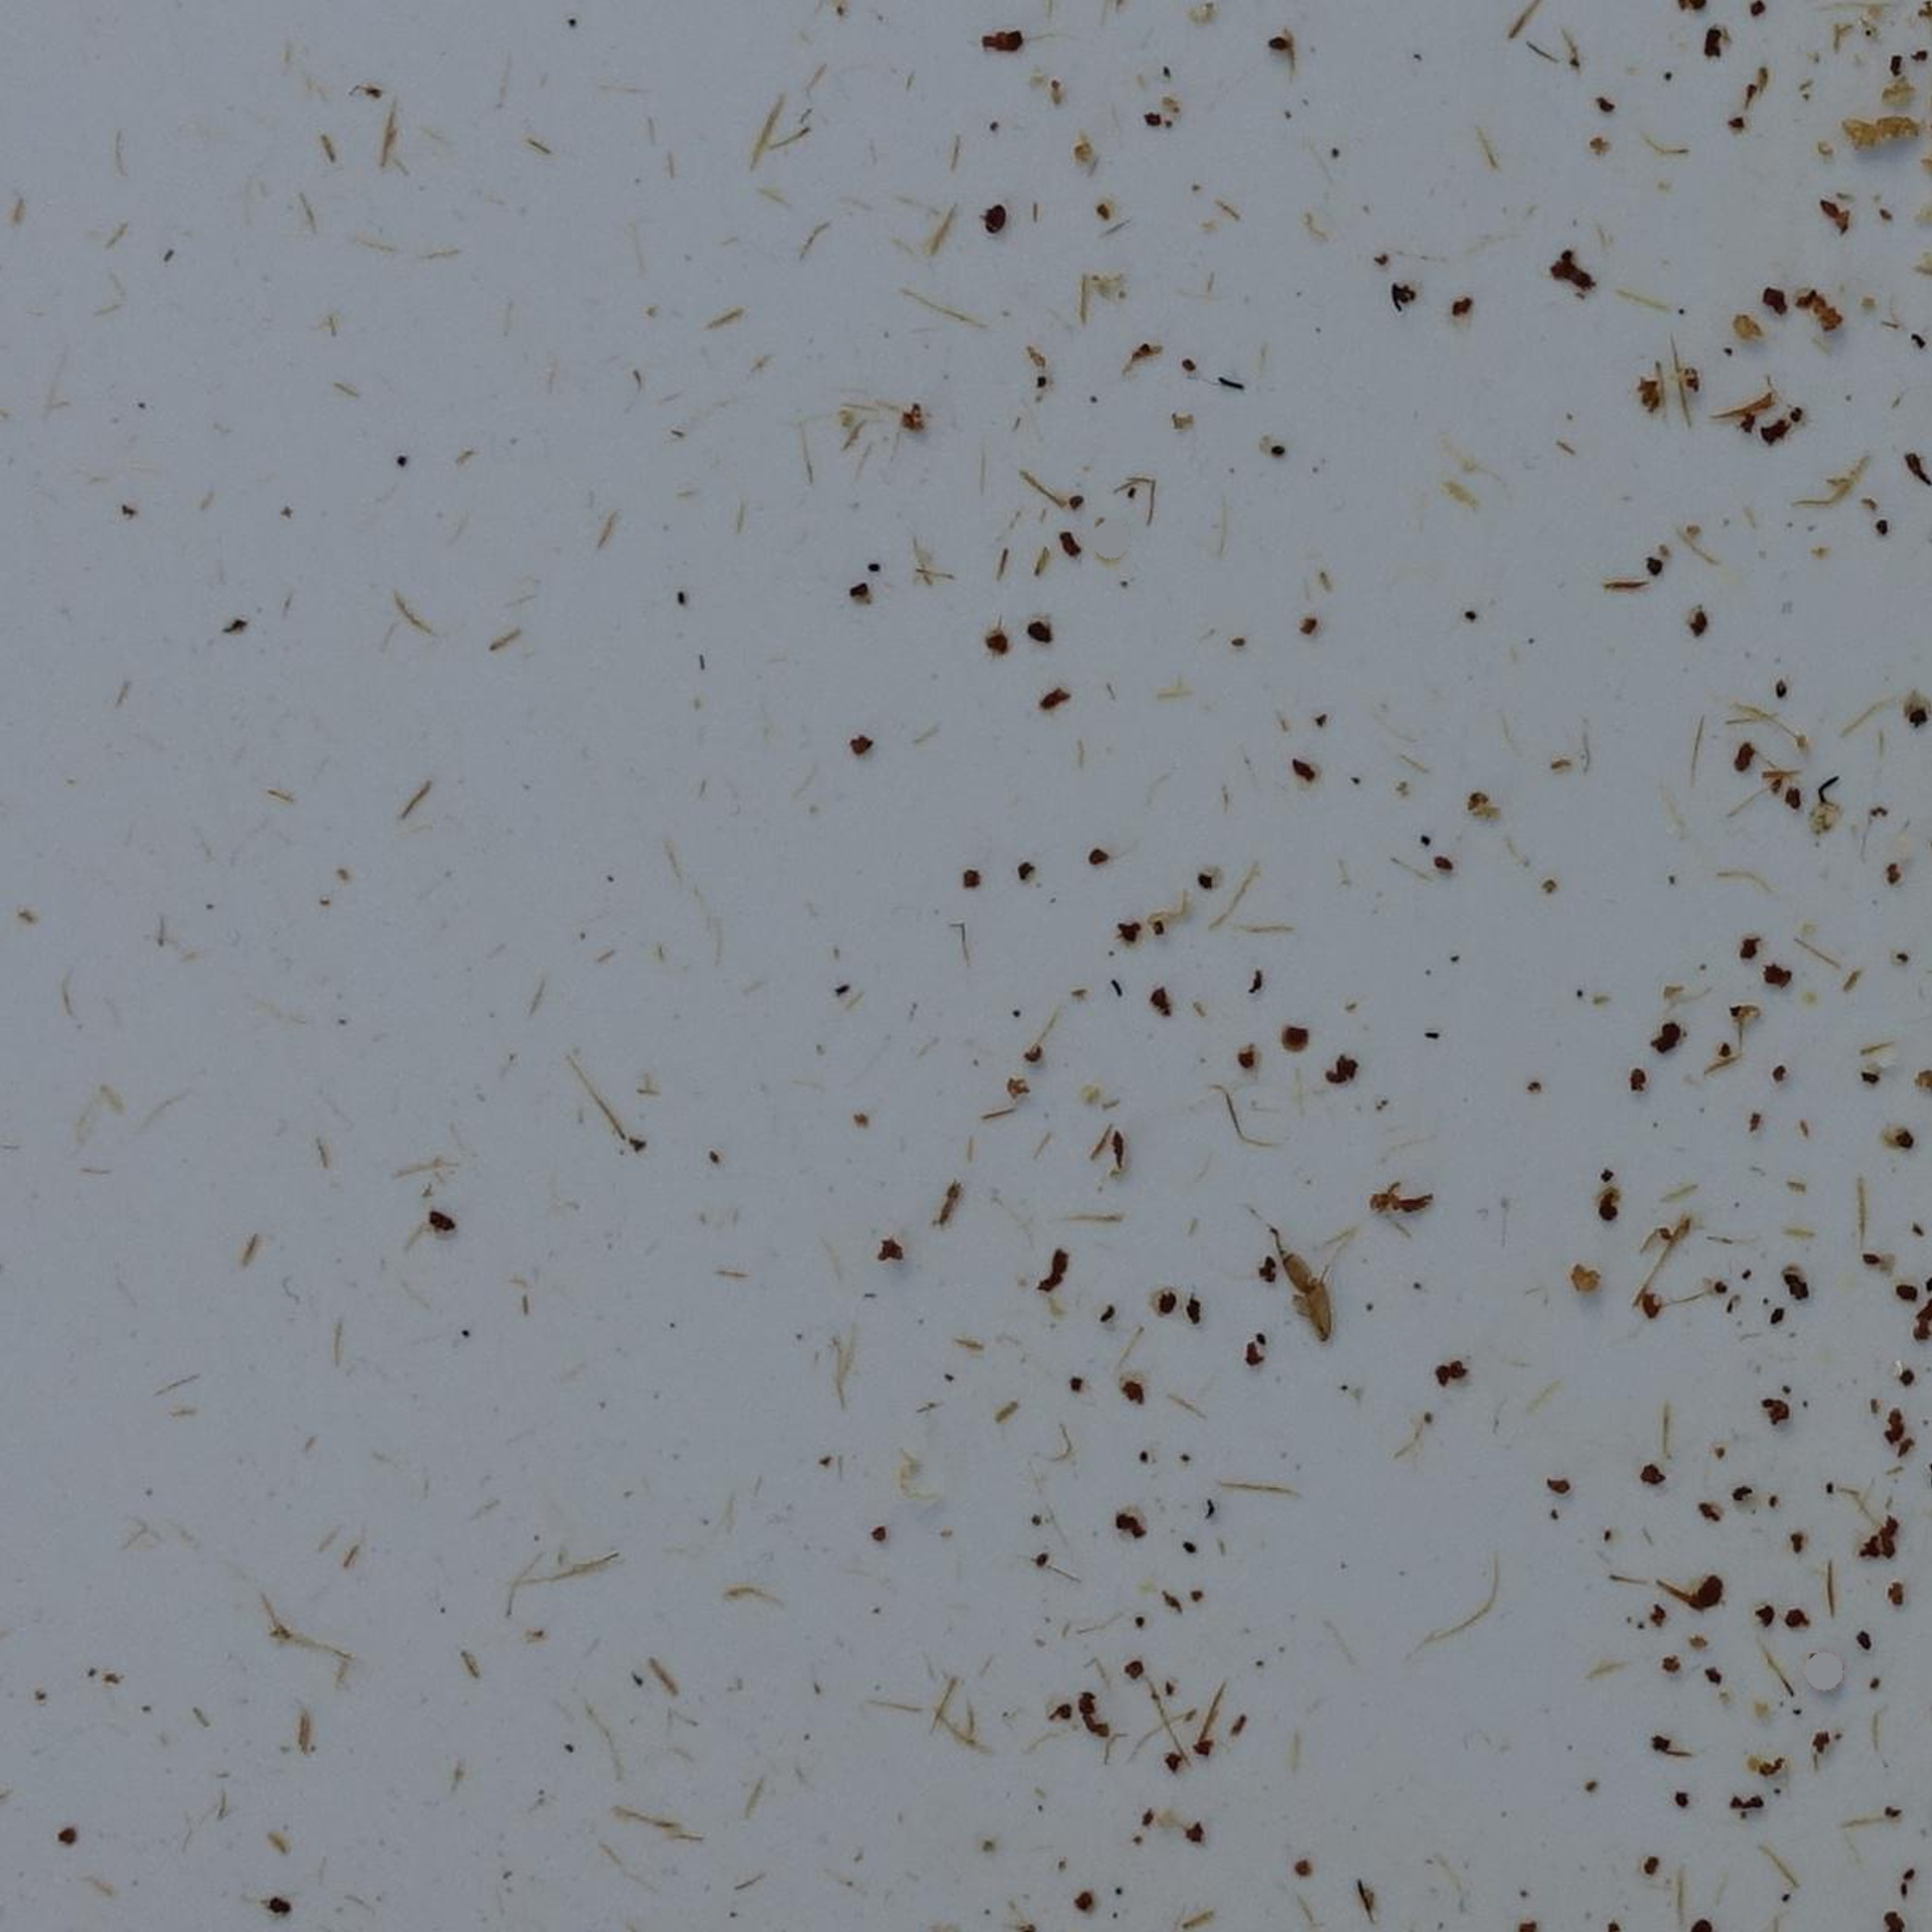Varroa: (987, 207, 1005, 228)
